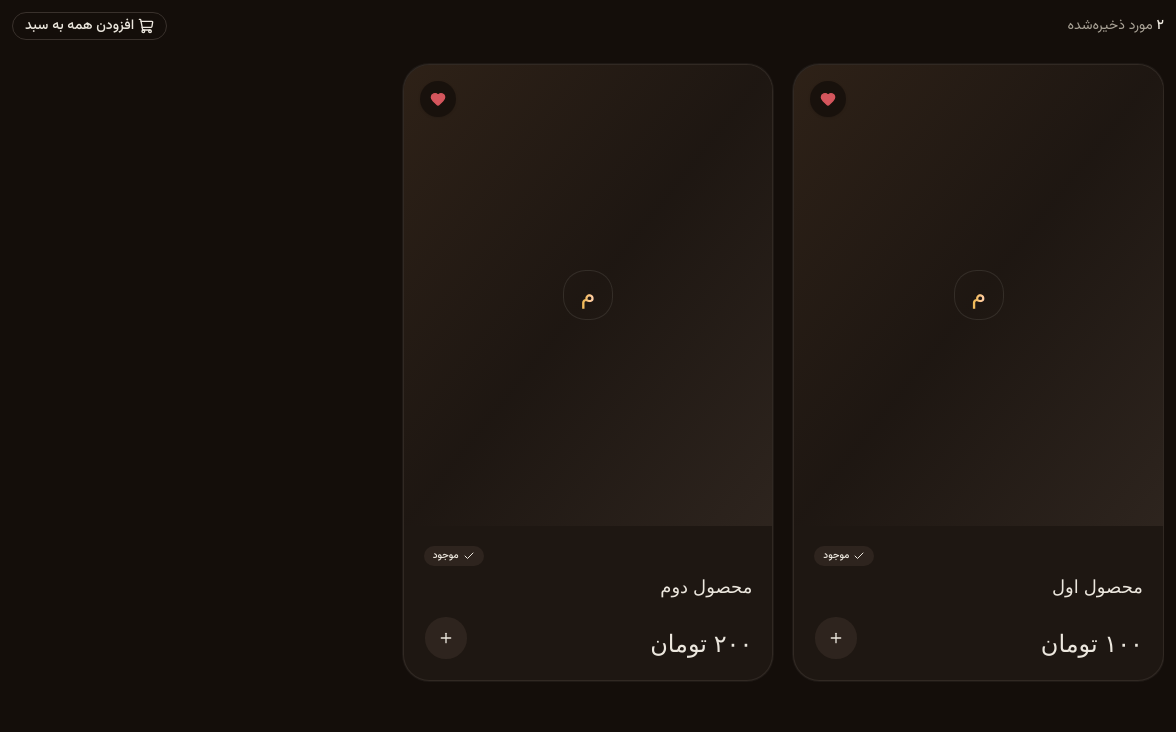
WishlistView add-to-cart errors › surfaces PRODUCT_UNAVAILABLE from a rejected add instead of a generic failure
This screenshot has width=1176, height=732.
Click the button named "افزودن محصول اول به سبد خرید": (836, 638) [814,616,858,660]
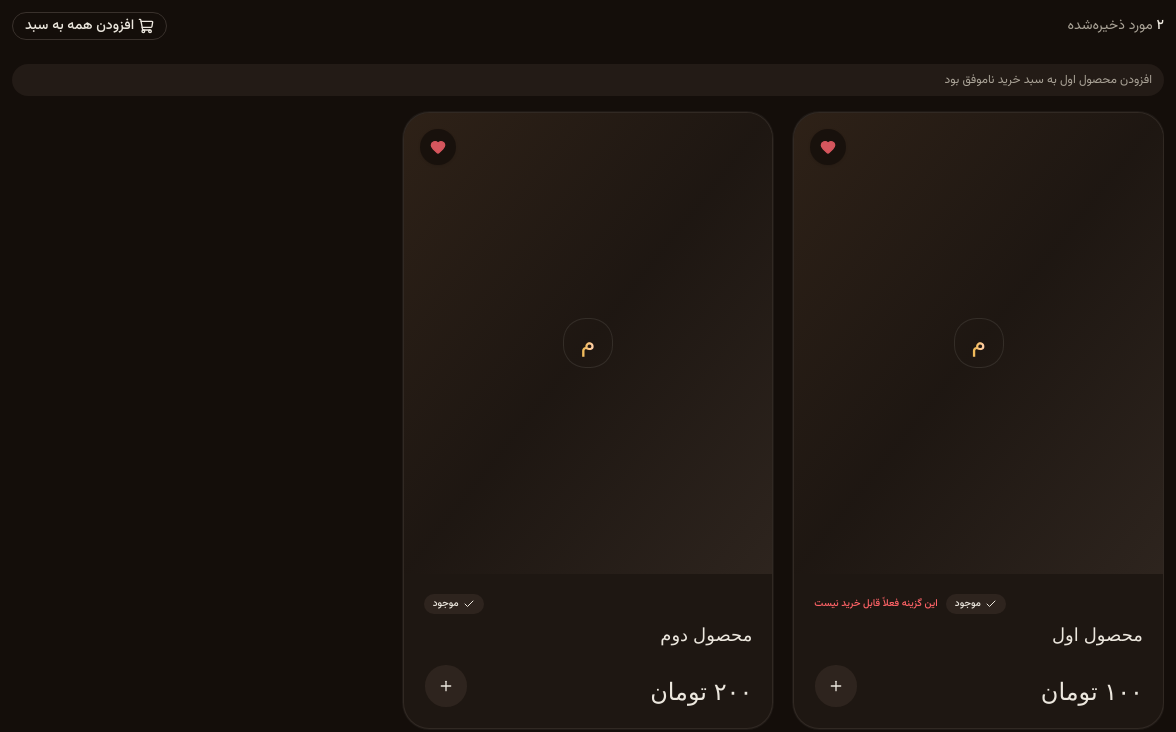
expect the text "این گزینه فعلاً قابل خرید نیست" is shown: met, box [814,595,938,613]
